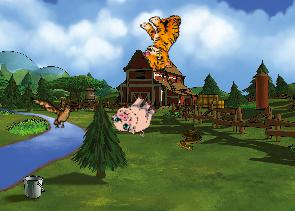eagle: (31, 90, 82, 132)
pig: (107, 87, 162, 143)
tiger: (134, 9, 192, 73)
